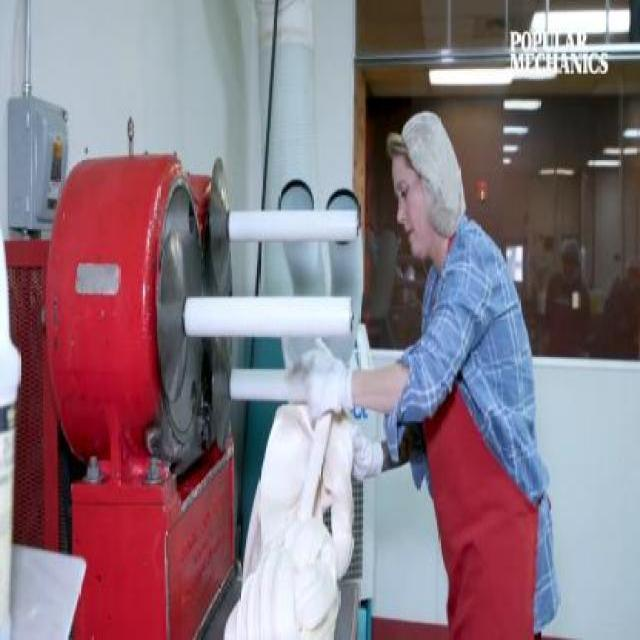gloved_hand: (290, 347, 371, 419), (342, 431, 404, 480)
